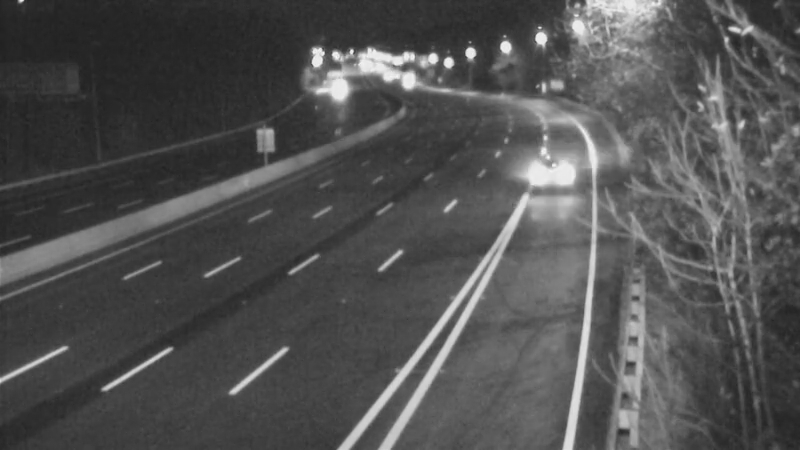vehicle: (509, 127, 589, 207), (385, 59, 435, 109), (315, 58, 365, 108)
